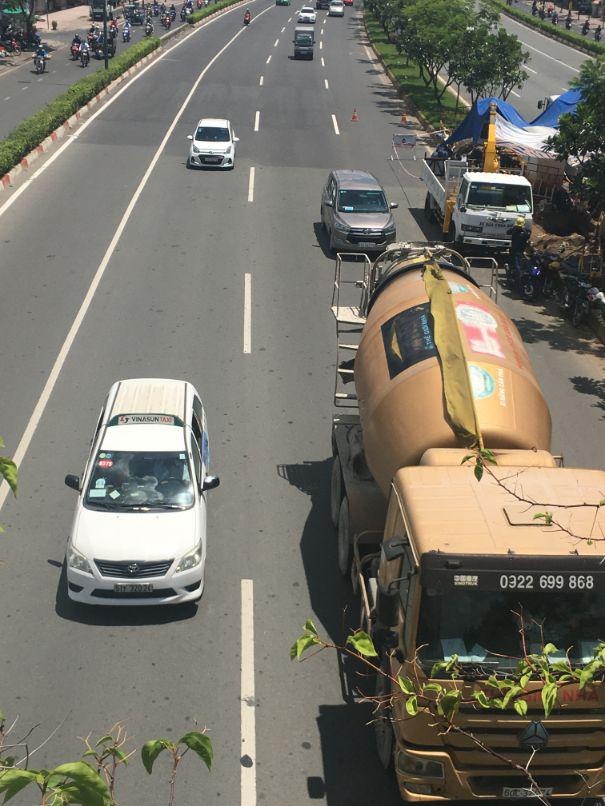car: (59, 381, 220, 612), (317, 167, 397, 259), (187, 119, 239, 172), (298, 7, 315, 25), (329, 3, 343, 18)
motorbike: (33, 45, 47, 73), (80, 42, 91, 69)
truck: (315, 220, 604, 805), (421, 145, 535, 247), (292, 29, 313, 61)
